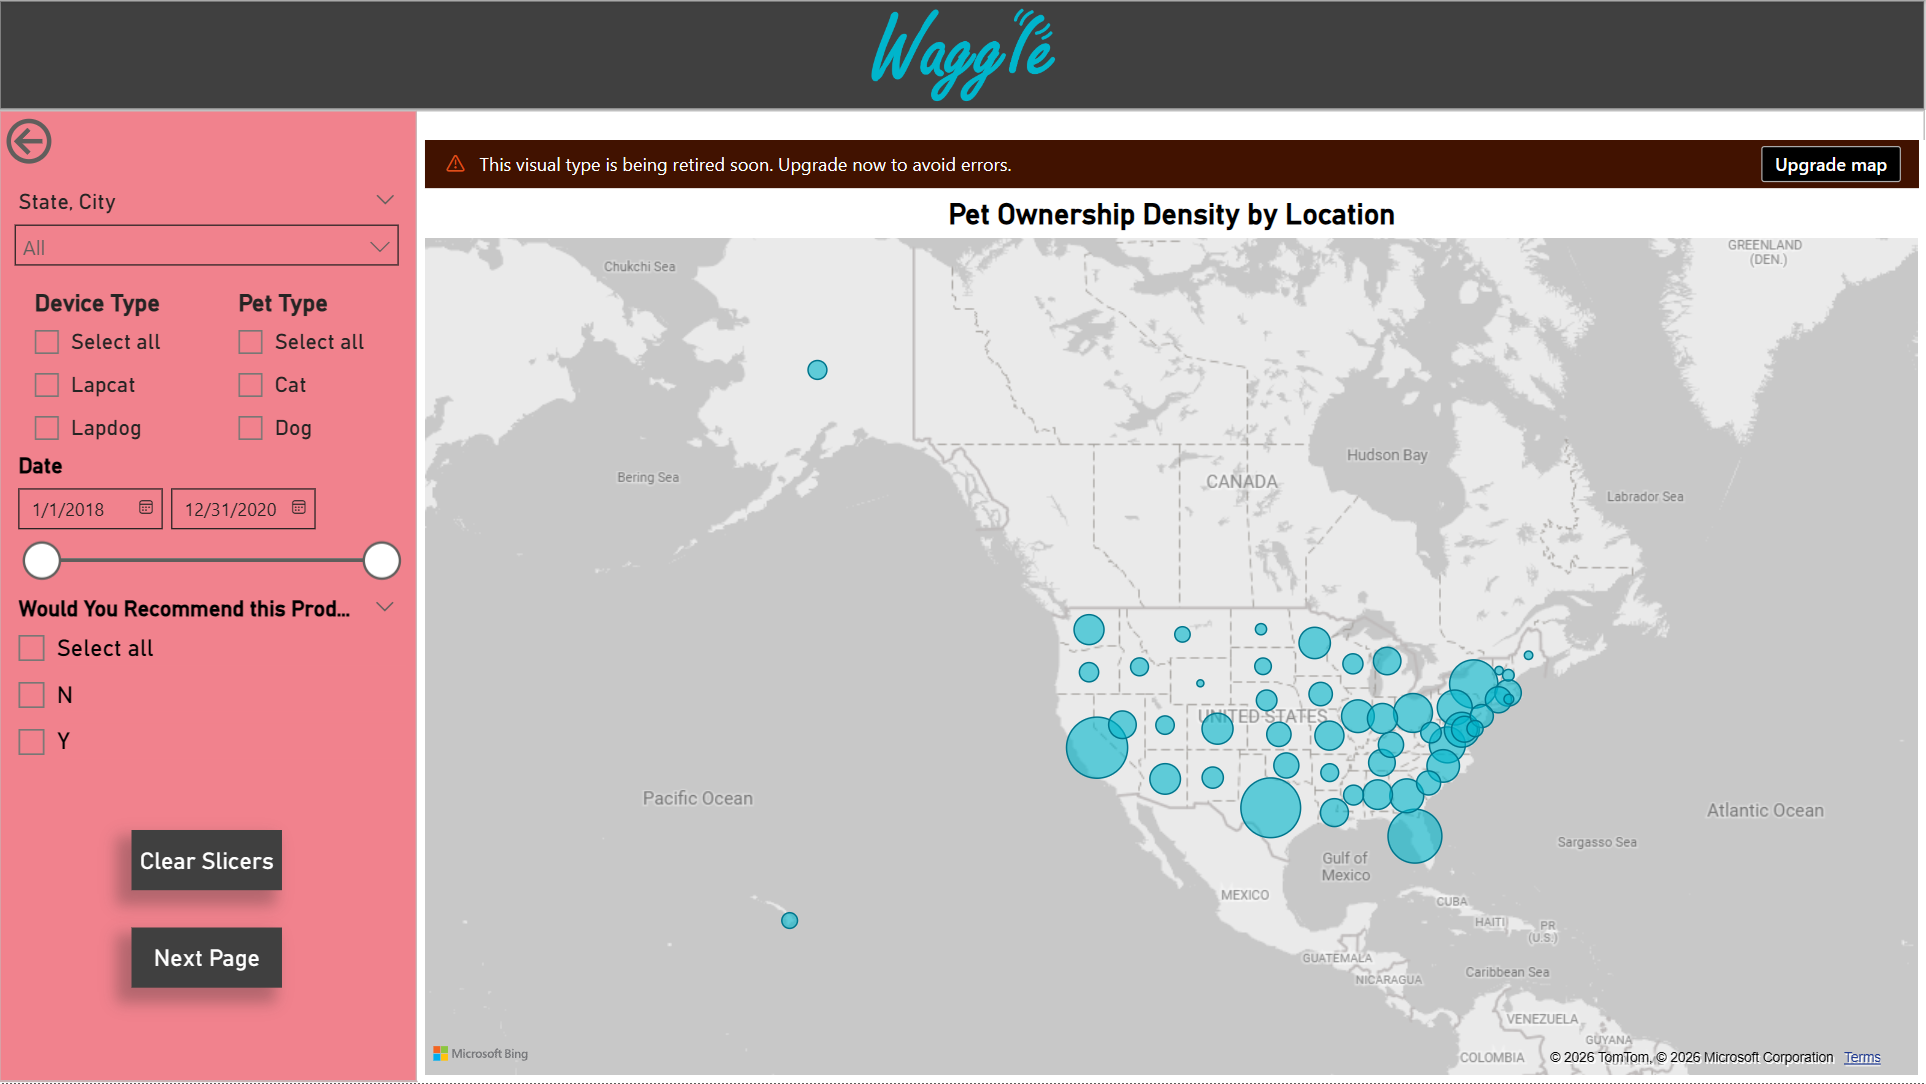

Layout of this report page (visuals, bound fields, positions):
{"tool":"powerbi","page":{"name":"Pet Info","canvas":[1280,720],"ordinal":1},"visuals":[{"type":"group","id":"g1","title":"Background/Banner","box":[0,0,1280,719.3],"z":0},{"type":"shape","box":[0,73,1279.8,646.1],"z":0,"group":"g1"},{"type":"slicer","fields":{"Values":["Rating_Data.Device_Type"]},"box":[10.7,187.8,122.4,119.5],"z":0,"group":"g2"},{"type":"shape","box":[0,0,1280,73],"z":1000,"group":"g1"},{"type":"group","id":"g2","title":"Slicers Side","box":[0,73.7,275.7,582.4],"z":1000},{"type":"image","box":[426.9,0,426.9,73],"z":2000,"group":"g1"},{"type":"map","title":"Pet Ownership Density by Location","fields":{"Category":["Family_Data.State","Family_Data.City"],"Size":["CountNonNull(Tracker_Data.Pet_ID)"]},"box":[277.9,93.3,1002.3,626.4],"z":2000},{"type":"slicer","fields":{"Values":["Date_Table.Date"]},"box":[0,295.4,275.4,152.8],"z":2000,"group":"g2"},{"type":"shape","box":[0,73.4,277.9,645.8],"z":3000,"group":"g1"},{"type":"slicer","fields":{"Values":["Rating_Data.Would You Recommend this Product?"]},"box":[0,390.9,275.4,129.2],"z":3000,"group":"g2"},{"type":"slicer","fields":{"Values":["Pet_Data.Dog/Cat"]},"box":[146.1,187.8,121.4,119.5],"z":4000,"group":"g2"},{"type":"actionButton","title":"Back Button","box":[0,73.7,99.5,39.8],"z":5000,"group":"g2"},{"type":"actionButton","title":"Clear","box":[87.7,551.7,100.3,40.3],"z":6000,"group":"g2"},{"type":"slicer","fields":{"Values":["Family_Data.State","Family_Data.City"]},"box":[0,120,275.7,77.9],"z":7000,"group":"g2"},{"type":"actionButton","title":"Clear","box":[87.7,615.9,100.3,40.3],"z":8000,"group":"g2"}]}

Visuals, with their boxes in screenshot pixels (x1, y1, x2, y2), scaled from the page's 1280x720 canvas onto the 1926x1084 screenshot:
"Background/Banner" group: region(0, 0, 1925, 1083)
shape: region(0, 110, 1925, 1083)
slicer - Rating_Data.Device_Type: region(16, 283, 200, 463)
shape: region(0, 0, 1925, 110)
"Slicers Side" group: region(0, 111, 415, 988)
image: region(642, 0, 1285, 110)
"Pet Ownership Density by Location" map: region(418, 140, 1925, 1083)
slicer - Date_Table.Date: region(0, 445, 414, 675)
shape: region(0, 111, 418, 1083)
slicer - Rating_Data.Would You Recommend this Product?: region(0, 589, 414, 783)
slicer - Pet_Data.Dog/Cat: region(220, 283, 403, 463)
"Back Button" actionButton: region(0, 111, 150, 171)
"Clear" actionButton: region(132, 831, 283, 891)
slicer - Family_Data.State x Family_Data.City: region(0, 181, 415, 298)
"Clear" actionButton: region(132, 927, 283, 988)
